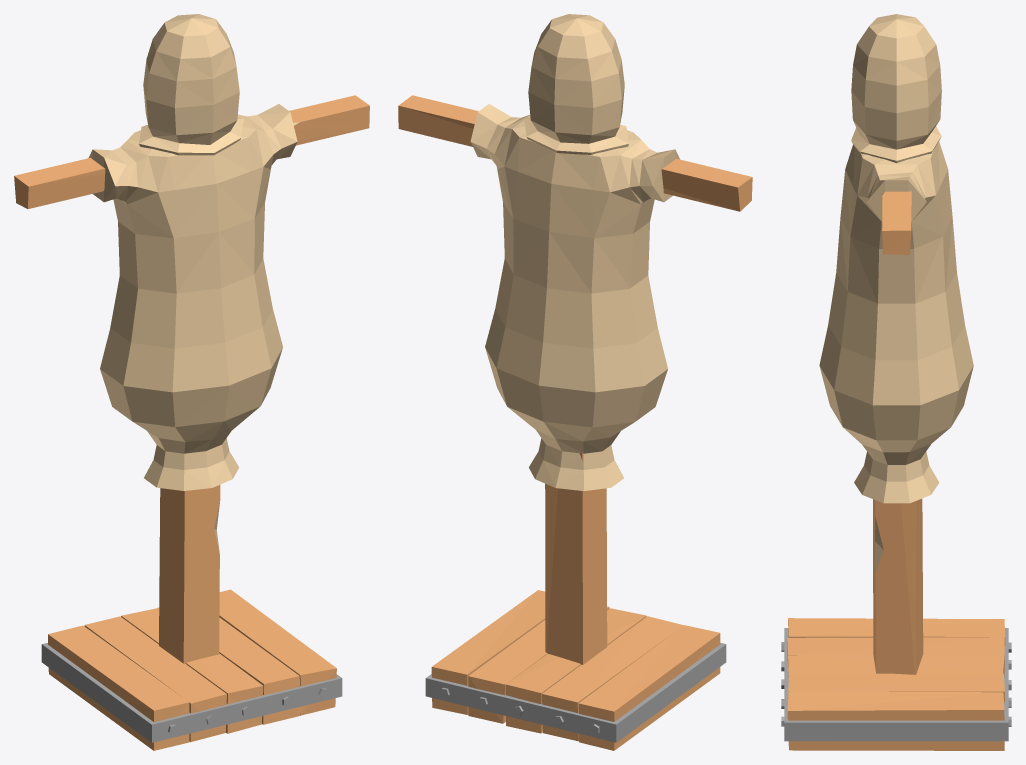
Rendered from dummy_target.fbx.
The picture shows the model from 3 angles, left to right: view 1: azimuth 30°, elevation 25°; view 2: azimuth 150°, elevation 25°; view 3: azimuth 270°, elevation 25°; orthographic projection. The views are drawn at different scales.
Visible parts, largest first — view 1: dummy_target; view 2: dummy_target; view 3: dummy_target.
Part boxes in pixels (<box>): dummy_target: <box>14,14,369,750</box>; dummy_target: <box>398,14,752,750</box>; dummy_target: <box>781,14,1011,750</box>.
Size of the model in its own units: 0.9408 by 1.77 by 0.5402.
